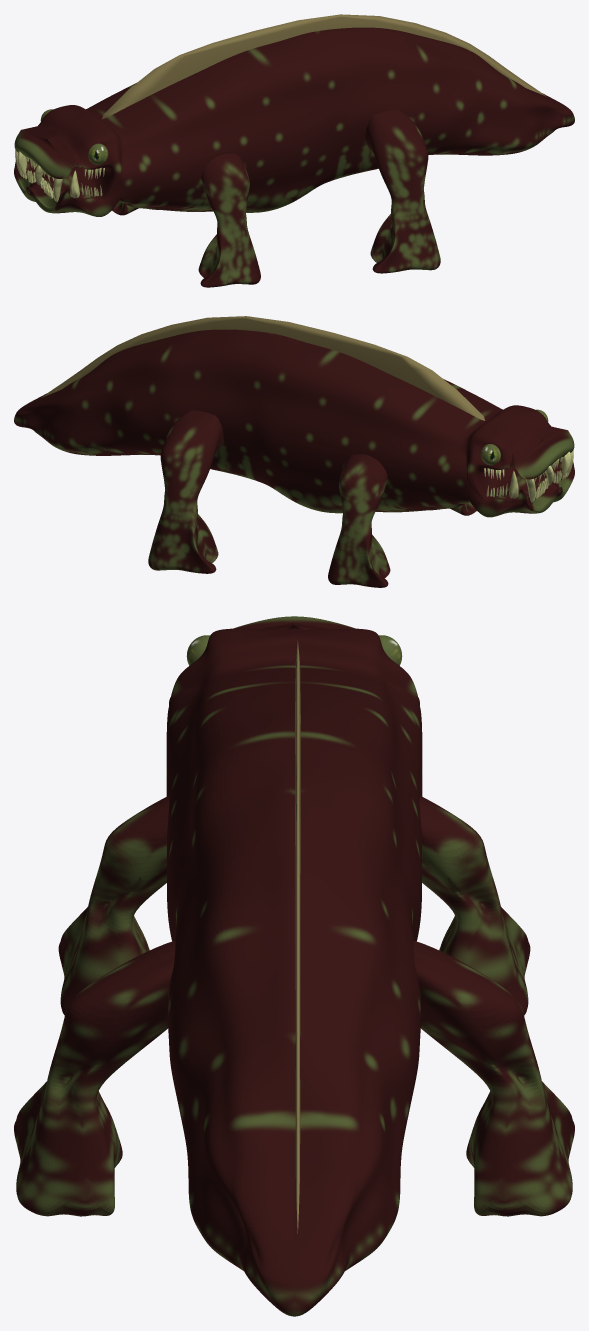
Rendered from pez_raro.fbx.
3 renders of one model, top to bottom at view 1: azimuth 30°, elevation 25°; view 2: azimuth 150°, elevation 25°; view 3: azimuth 270°, elevation 25°, orthographic. The views are drawn at different scales.
Parts seen in each view (by area): view 1: Plano, Plano.001; view 2: Plano, Plano.001; view 3: Plano, Plano.001.
Part boxes in pixels (box(x1,y1,x2,y2)): Plano: box(14, 27, 574, 287); Plano.001: box(102, 14, 545, 119); Plano: box(14, 329, 574, 587); Plano.001: box(41, 316, 485, 420); Plano: box(14, 616, 574, 1316); Plano.001: box(295, 640, 300, 1233).
Bounding box in the file's own units: 4.93 × 1.84 × 2.32.
2 materials, 1 textured.
